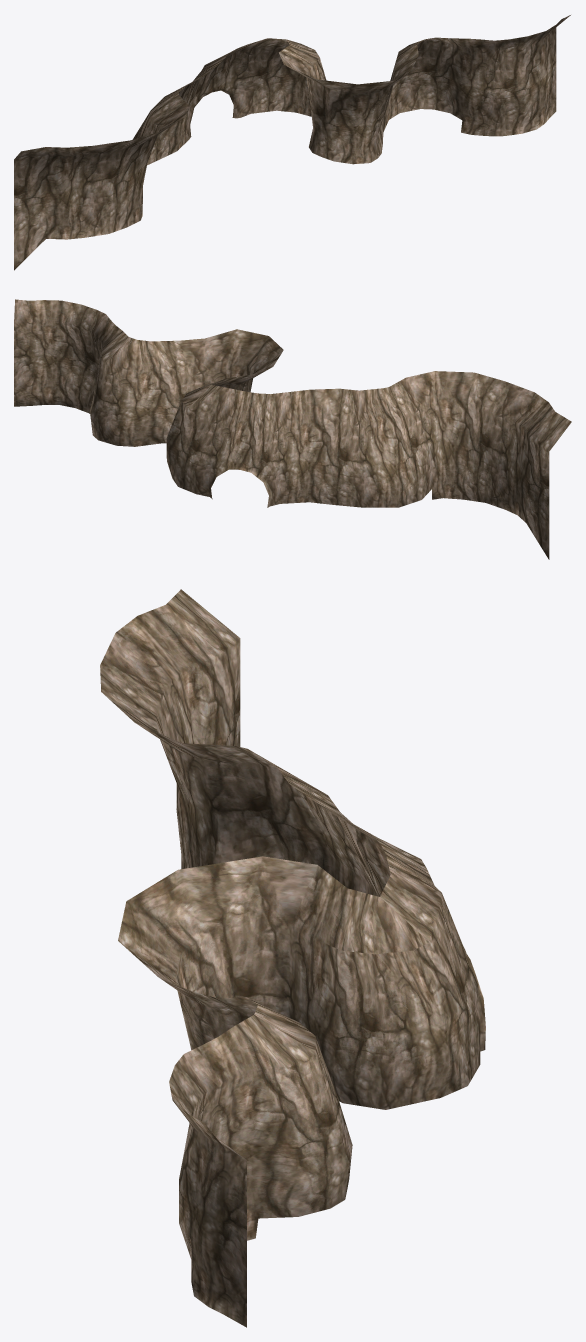
The model's file is OVERHILL_A_01_OBJECT155.fbx.
3 renders of one model, top to bottom at view 1: azimuth 30°, elevation 25°; view 2: azimuth 150°, elevation 25°; view 3: azimuth 270°, elevation 25°, orthographic. The views are drawn at different scales.
Parts seen in each view (by area): view 1: OVERHILL_A_01_OBJECT155; view 2: OVERHILL_A_01_OBJECT155; view 3: OVERHILL_A_01_OBJECT155.
Part boxes in pixels (box(x1,y1,x2,y2)): OVERHILL_A_01_OBJECT155: box(14, 15, 570, 270); OVERHILL_A_01_OBJECT155: box(14, 299, 571, 559); OVERHILL_A_01_OBJECT155: box(100, 589, 485, 1327).
Size of the model in its own units: 419941 by 99283 by 127914.
1 material, 1 textured.
